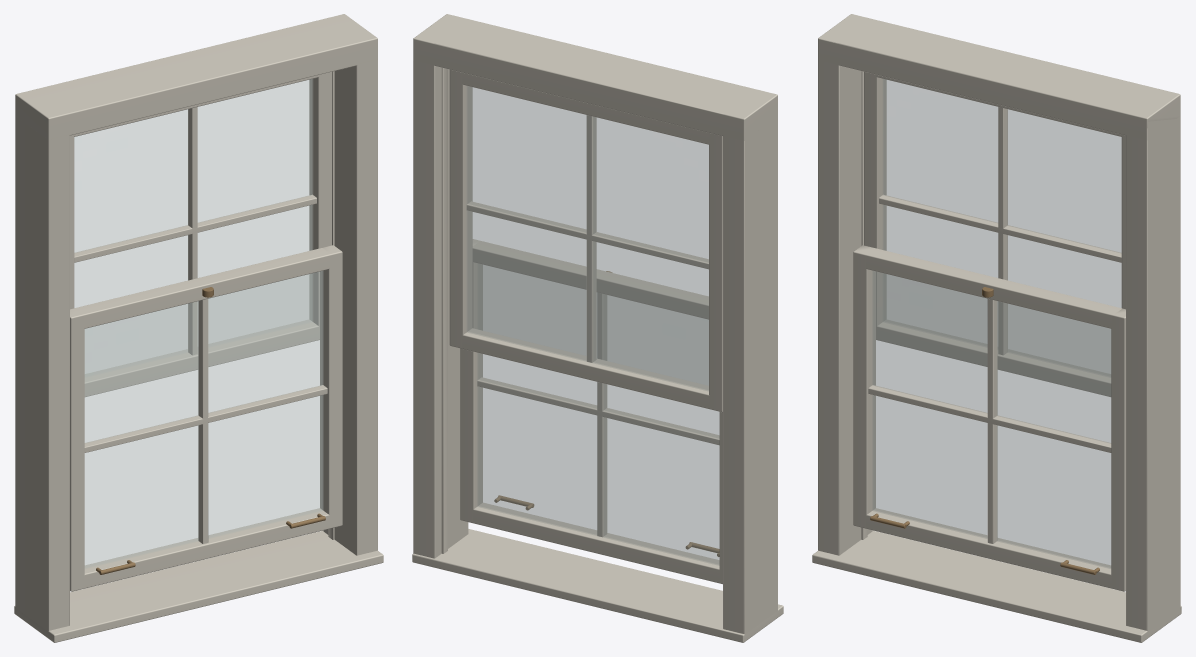
File: sash-vertical-sash-window.glb
The picture shows the model from 3 angles, left to right: view 1: azimuth 30°, elevation 25°; view 2: azimuth 150°, elevation 25°; view 3: azimuth 330°, elevation 25°; orthographic projection.
Parts seen in each view (by area): view 1: Sash | glass pane.001, Sash | glass pane, Frame | jamb, Frame | jamb.001, Frame | header, Frame | sill, Sash | stile.003, Sash | crossrail.003, Sash | crossrail.002, Sash | crossrail, Sash | stile.001, Sash | stile.002 (+7 smaller); view 2: Sash | glass pane, Sash | glass pane.001, Frame | jamb, Frame | header, Frame | jamb.001, Frame | sill, Sash | stile.001, Sash | crossrail, Sash | crossrail.002, Sash | crossrail.003, Sash | stile.003, Sash | stile (+7 smaller); view 3: Sash | glass pane.001, Sash | glass pane, Frame | jamb.001, Frame | jamb, Frame | header, Frame | sill, Sash | stile.002, Sash | crossrail.003, Sash | crossrail.002, Sash | crossrail, Sash | stile, Sash | stile.003 (+7 smaller).
Boxes of the visible parts, bbox=[...] form: Sash | glass pane.001: bbox=[84, 271, 323, 568]; Sash | glass pane: bbox=[74, 79, 312, 376]; Frame | jamb: bbox=[15, 114, 69, 635]; Frame | jamb.001: bbox=[323, 38, 377, 555]; Frame | header: bbox=[15, 14, 377, 139]; Frame | sill: bbox=[14, 530, 383, 642]; Sash | stile.003: bbox=[320, 245, 342, 528]; Sash | crossrail.003: bbox=[74, 248, 330, 328]; Sash | crossrail.002: bbox=[84, 508, 329, 588]; Sash | crossrail: bbox=[84, 320, 319, 396]; Sash | stile.001: bbox=[309, 72, 331, 339]; Sash | stile.002: bbox=[70, 308, 84, 591]; Sash | glass pane: bbox=[467, 86, 708, 390]; Sash | glass pane.001: bbox=[477, 264, 719, 565]; Frame | jamb: bbox=[723, 114, 777, 641]; Frame | header: bbox=[413, 14, 777, 140]; Frame | jamb.001: bbox=[413, 38, 468, 558]; Frame | sill: bbox=[412, 529, 783, 642]; Sash | stile.001: bbox=[449, 69, 472, 348]; Sash | crossrail: bbox=[462, 328, 709, 409]; Sash | crossrail.002: bbox=[473, 502, 719, 583]; Sash | crossrail.003: bbox=[472, 241, 708, 319]; Sash | stile.003: bbox=[460, 239, 482, 523]; Sash | stile: bbox=[709, 133, 722, 412]; Sash | glass pane.001: bbox=[872, 271, 1111, 568]; Sash | glass pane: bbox=[883, 79, 1121, 376]; Frame | jamb.001: bbox=[1126, 95, 1180, 637]; Frame | jamb: bbox=[818, 38, 872, 555]; Frame | header: bbox=[818, 14, 1180, 139]; Frame | sill: bbox=[812, 530, 1181, 642]; Sash | stile.002: bbox=[853, 245, 875, 528]; Sash | crossrail.003: bbox=[865, 248, 1121, 328]; Sash | crossrail.002: bbox=[866, 508, 1111, 588]; Sash | crossrail: bbox=[876, 320, 1111, 396]; Sash | stile: bbox=[864, 72, 886, 339]; Sash | stile.003: bbox=[1111, 308, 1125, 591].
Size of the model in its own units: 0.985 by 1.49 by 0.209.
3 materials, 3 textured.
